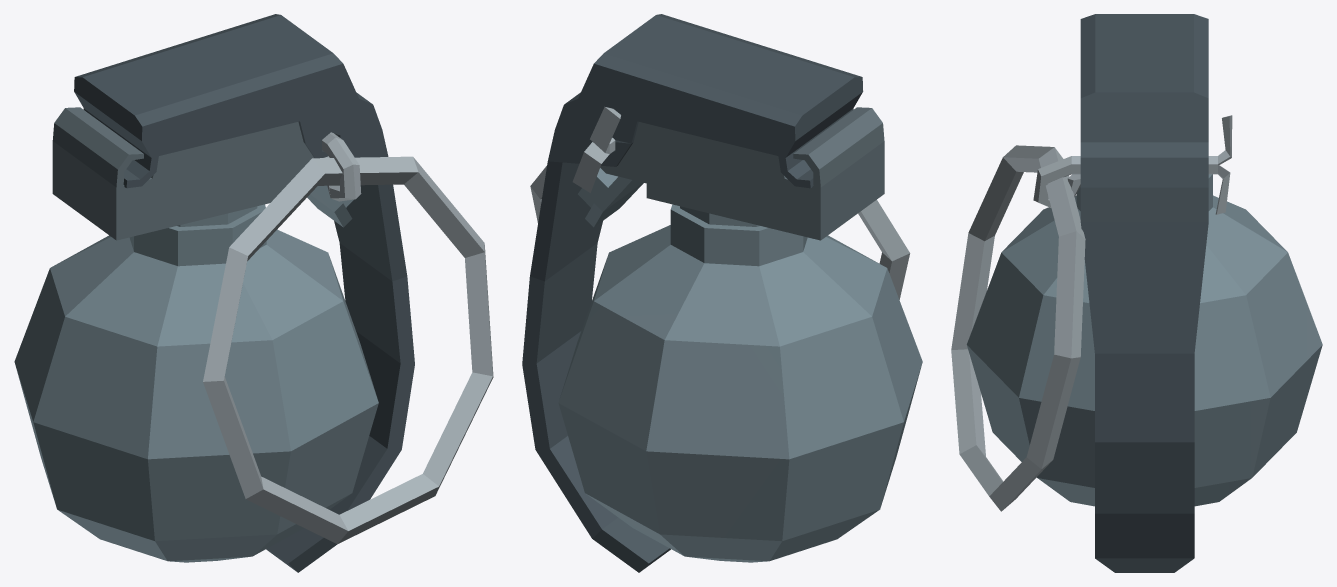
File: SM_Bomb_01.fbx
3 renders of one model, left to right at view 1: azimuth 30°, elevation 25°; view 2: azimuth 150°, elevation 25°; view 3: azimuth 270°, elevation 25°, orthographic. The views are drawn at different scales.
Visible parts, largest first — view 1: SM_Bomb_01; view 2: SM_Bomb_01; view 3: SM_Bomb_01.
Boxes of the visible parts, x1,y1,x2,y2 form: SM_Bomb_01: (14, 14, 493, 572); SM_Bomb_01: (522, 14, 922, 572); SM_Bomb_01: (951, 14, 1322, 572).
Bounding box in the file's own units: 4.33 × 5.22 × 3.58.
Materials: 1 (1 with a texture image).
